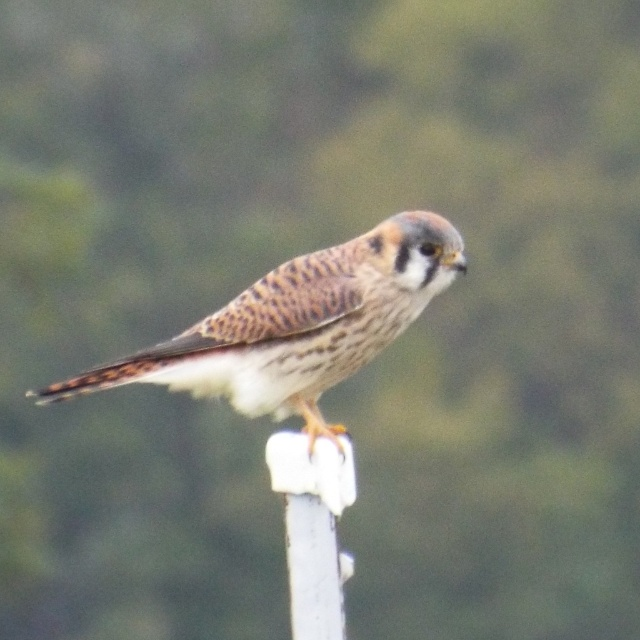Sparrow: (33, 197, 478, 460)
